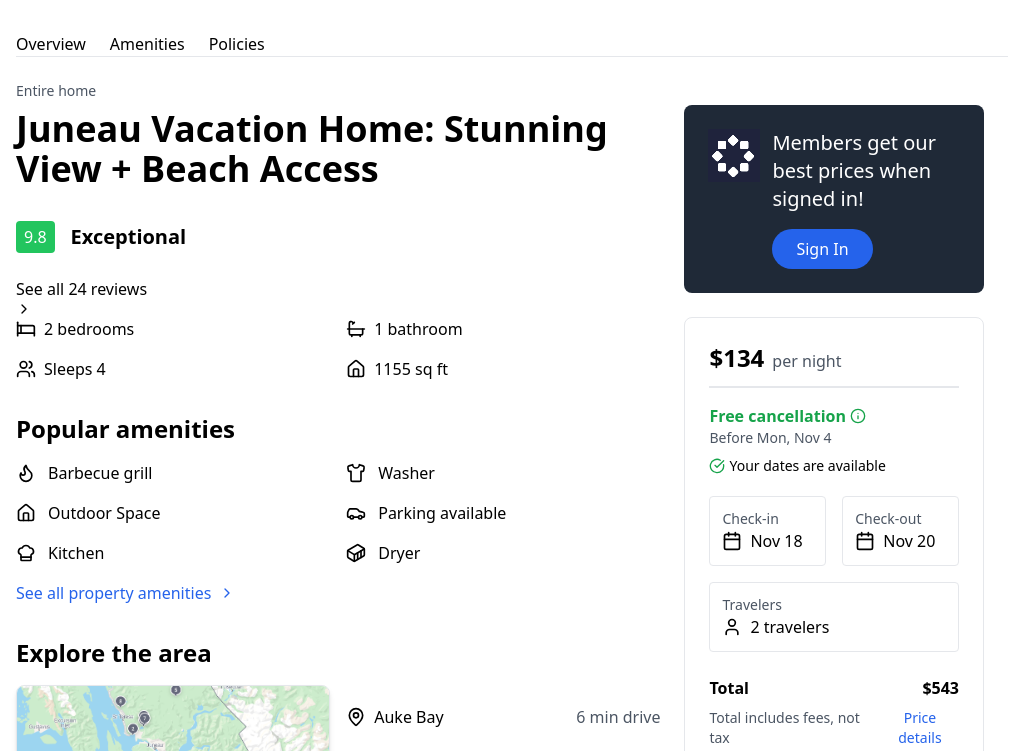
Test: VacationListing › opens and closes the travelers popup
Expected: the text "I am traveling with pets" is not shown
Note: Click to open the popup
What coordinates should you click on to do the following:
click the text "2 travelers"
I would click on:
 (790, 627)
Its box is [750, 615, 829, 639].
(page scrolled)
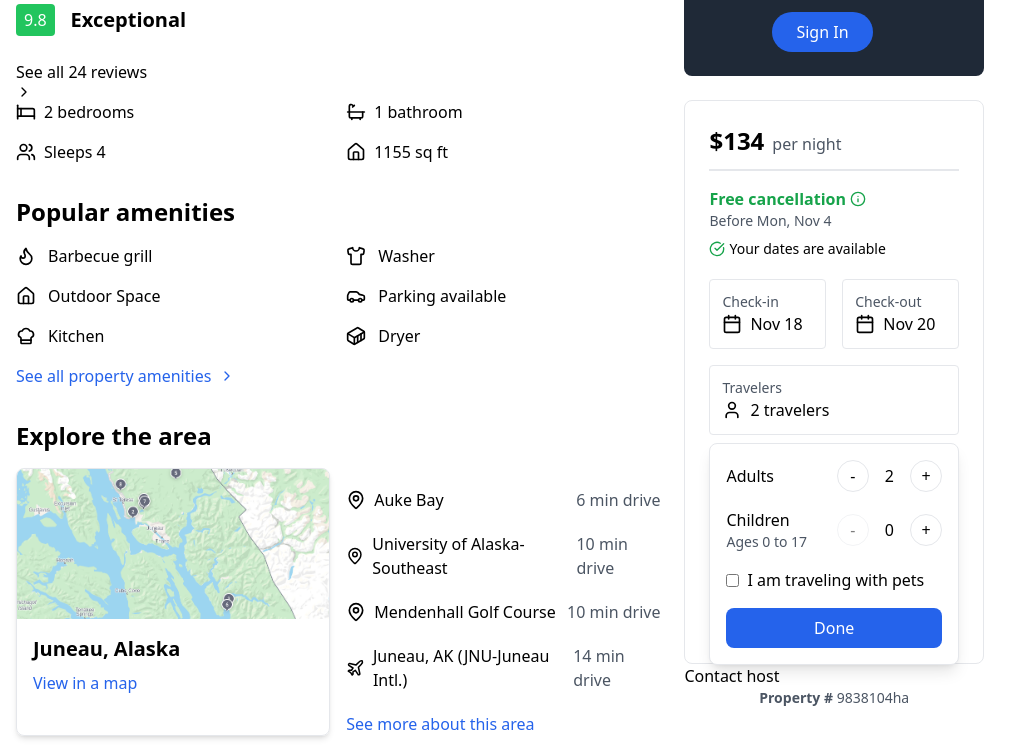
Expected: the text "I am traveling with pets" is shown, [747, 568, 924, 592]
Note: Click the Done button
What coordinates should you click on to do the following:
click the button "Done"
I would click on:
 (834, 628)
Its box is [726, 608, 942, 648].
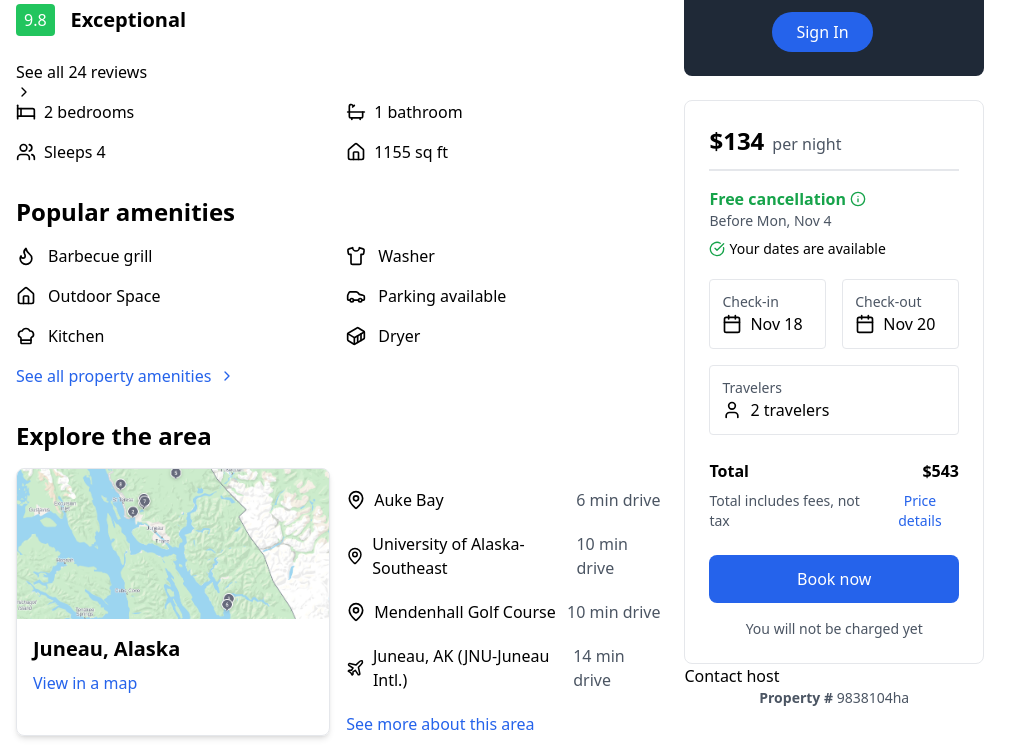
Expected: the text "I am traveling with pets" is gone
